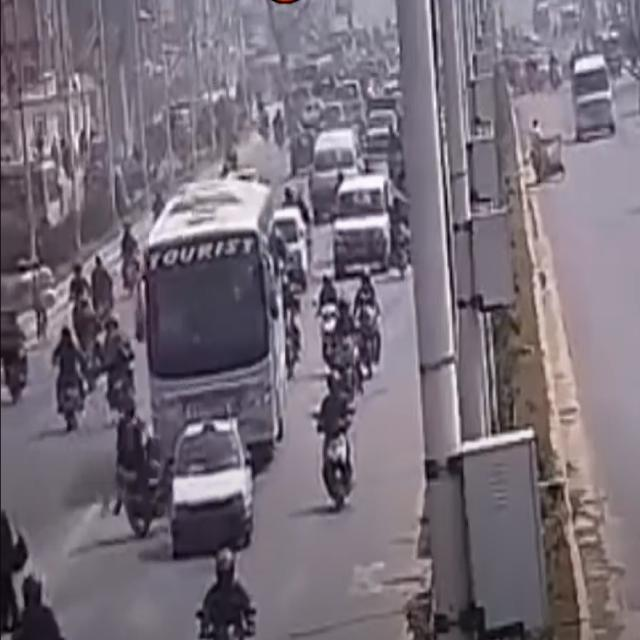accident: (109, 396, 254, 558)
non-accident: (143, 178, 309, 454), (308, 129, 414, 281), (312, 294, 366, 514), (52, 314, 138, 432), (314, 266, 382, 406)
